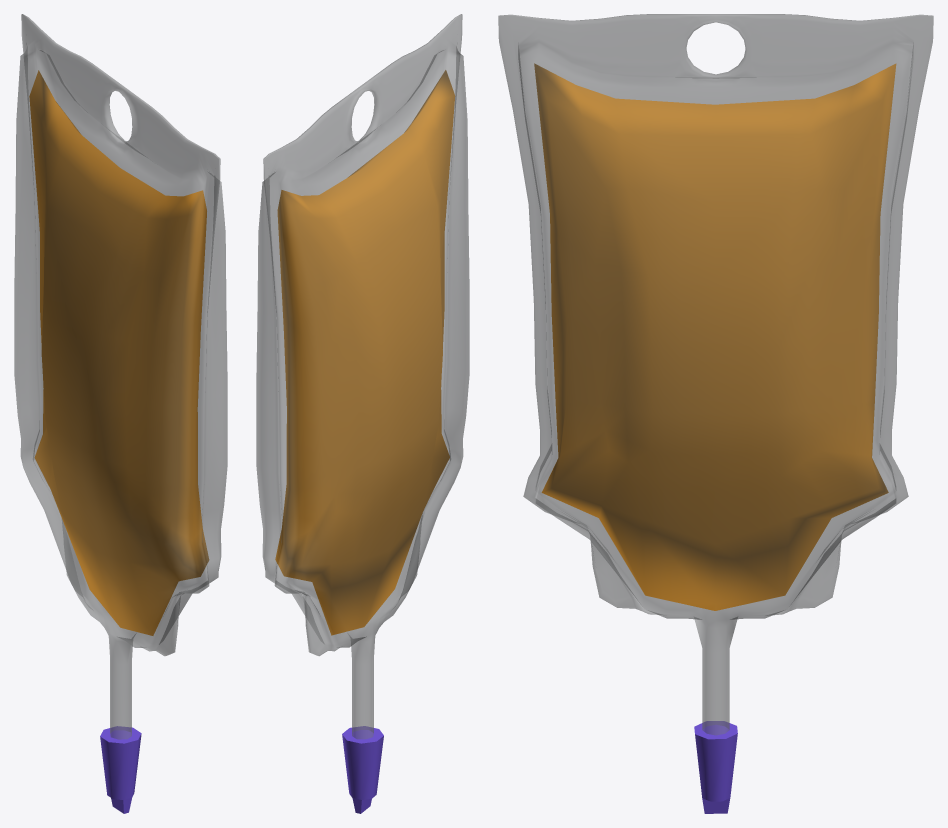
The model's file is ivbag.fbx.
3 renders of one model, left to right at view 1: azimuth 30°, elevation 25°; view 2: azimuth 150°, elevation 25°; view 3: azimuth 270°, elevation 25°, orthographic. The views are drawn at different scales.
Parts seen in each view (by area): view 1: pasted__Box001, pCube1, Cylinder001; view 2: pasted__Box001, pCube1, Cylinder001; view 3: pasted__Box001, pCube1, Cylinder001.
Part boxes in pixels (x1,y1,x2,y2): pasted__Box001: (14, 14, 227, 739); pCube1: (29, 70, 209, 635); Cylinder001: (100, 726, 141, 813); pasted__Box001: (256, 14, 469, 738); pCube1: (275, 70, 455, 635); Cylinder001: (342, 726, 383, 813); pasted__Box001: (498, 14, 933, 735); pCube1: (534, 63, 896, 610); Cylinder001: (694, 721, 737, 813).
Size of the model in its own units: 24.23 by 145 by 71.81.
